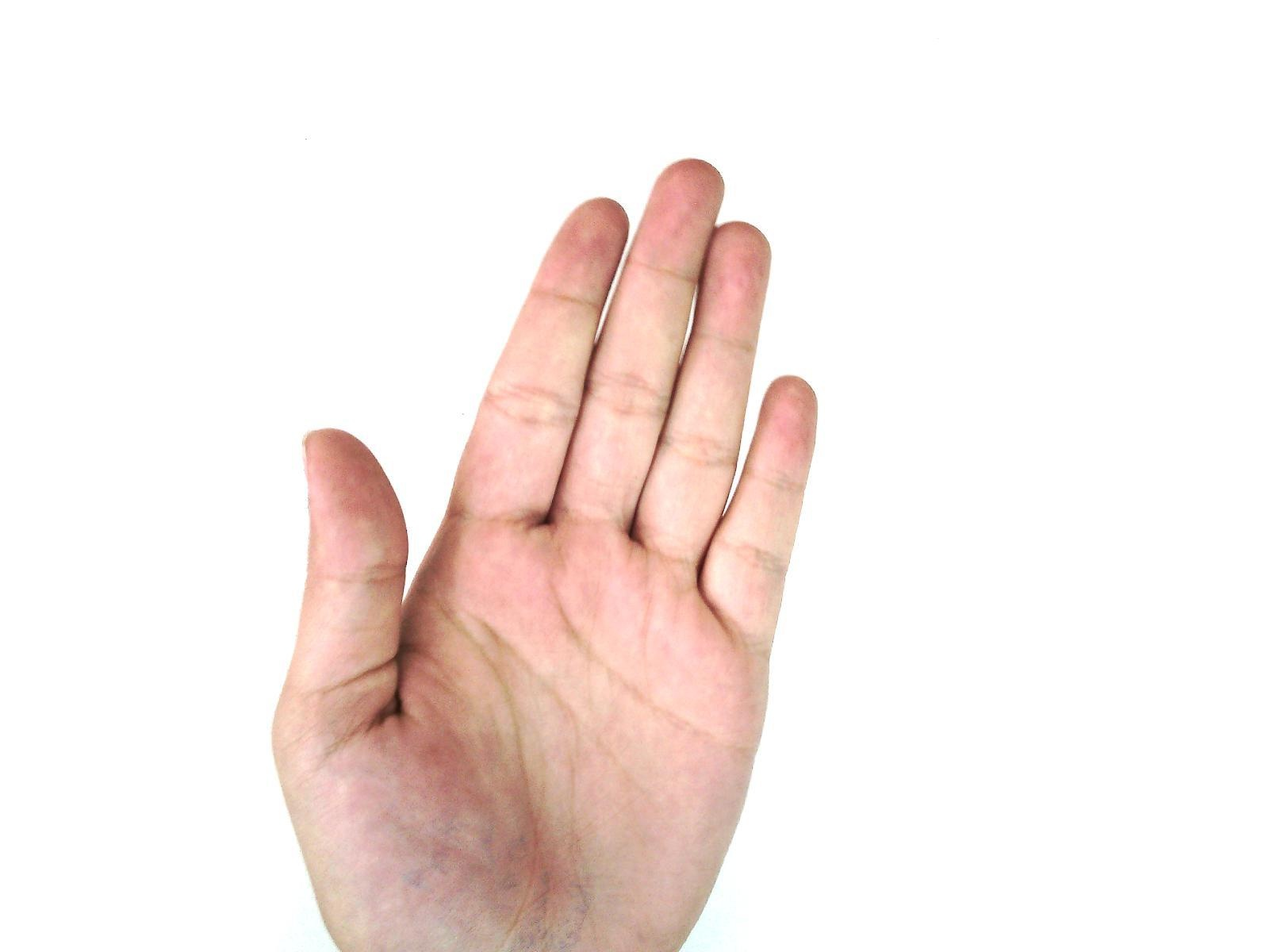open_palm: (270, 157, 822, 951)
